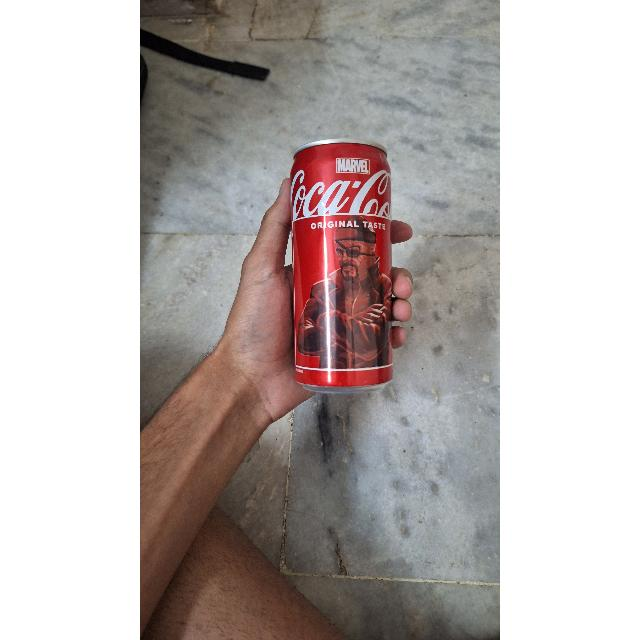Coca Cola - Marvel: (287, 136, 399, 394)
